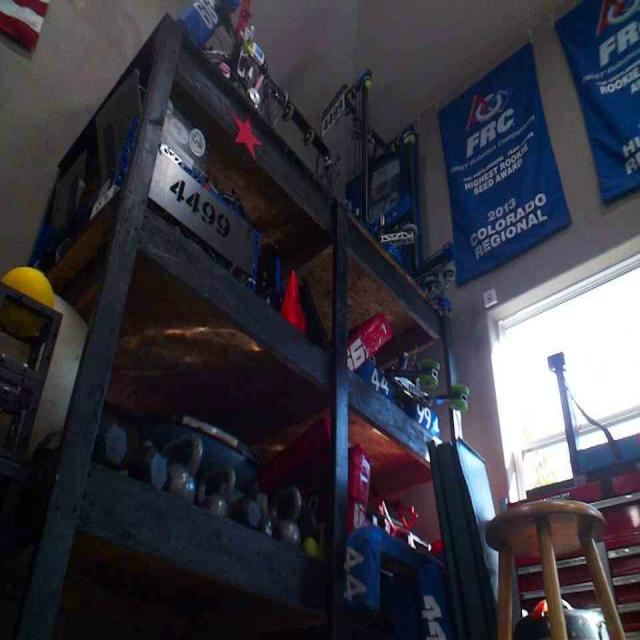star_red: (230, 108, 261, 156)
